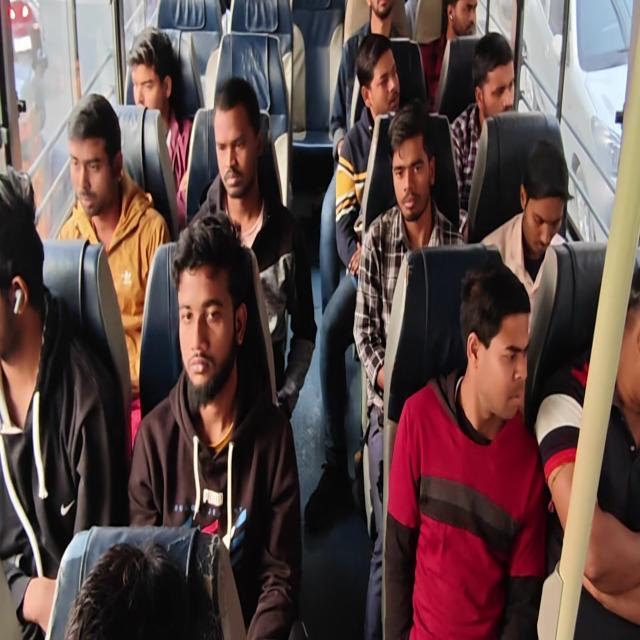person: (167, 209, 256, 428), (454, 253, 542, 453), (67, 532, 215, 640), (509, 122, 608, 270), (589, 234, 640, 482), (203, 78, 266, 214), (389, 94, 447, 227), (63, 90, 124, 215), (342, 26, 411, 135), (464, 24, 533, 124), (122, 21, 186, 112), (1, 186, 37, 336), (441, 0, 494, 56), (367, 0, 420, 54)
